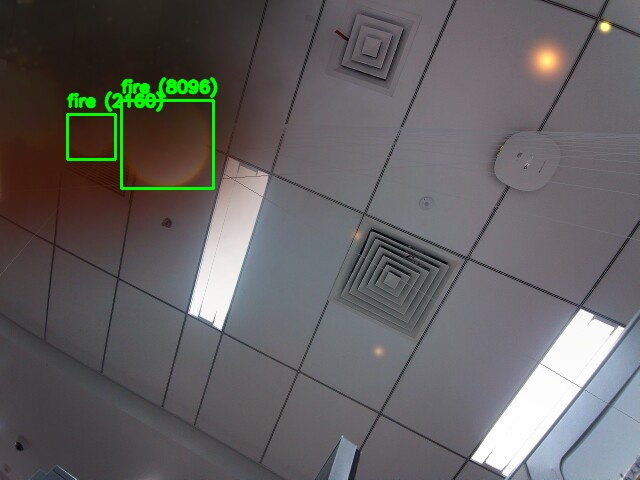fire: (121, 100, 213, 188), (67, 114, 115, 159)
